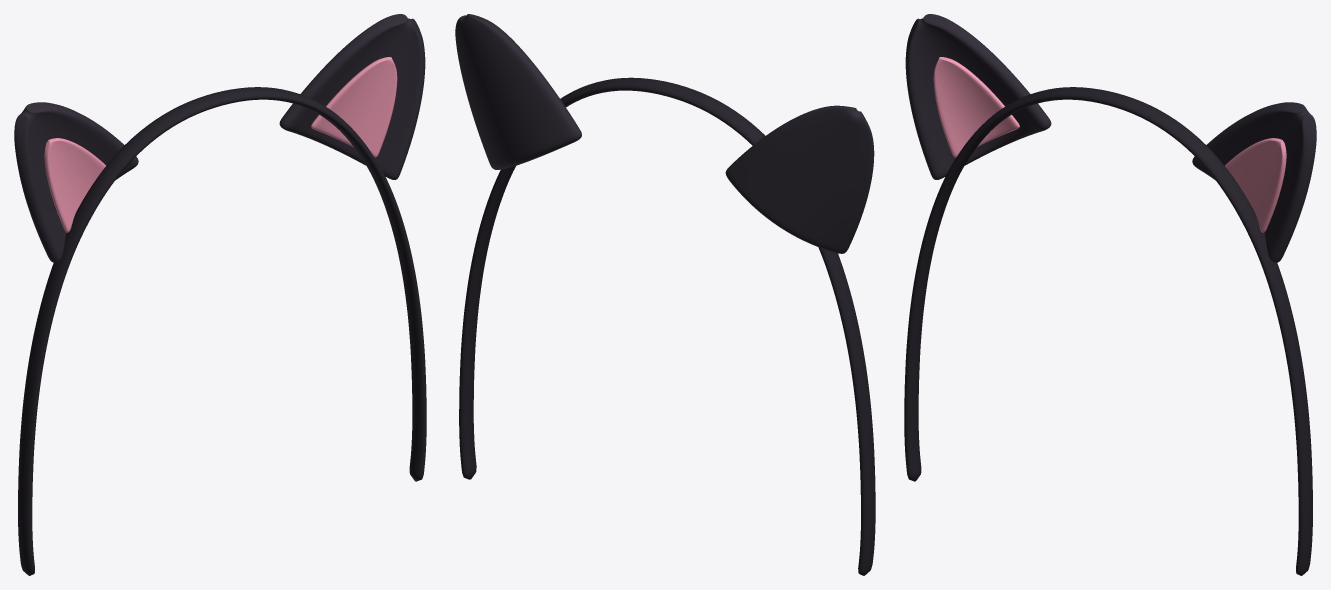
The model's file is cat-ears.glb.
3 views of the same model, side by side, from view 1: azimuth 30°, elevation 25°; view 2: azimuth 150°, elevation 25°; view 3: azimuth 330°, elevation 25° (orthographic).
Parts seen in each view (by area): view 1: Headband, Ear1, Ear-1, EarInner1, EarInner-1; view 2: Ear-1, Headband, Ear1; view 3: Headband, Ear-1, Ear1, EarInner-1, EarInner1.
Part boxes in pixels (x1,y1,x2,y2): Headband: (18, 87, 426, 575); Ear1: (279, 14, 425, 179); Ear-1: (14, 102, 138, 262); EarInner1: (311, 57, 397, 157); EarInner-1: (44, 138, 105, 232); Ear-1: (725, 105, 874, 253); Headband: (459, 77, 875, 575); Ear1: (455, 14, 581, 169); Headband: (904, 87, 1312, 575); Ear-1: (905, 14, 1051, 179); Ear1: (1192, 102, 1316, 262); EarInner-1: (933, 57, 1019, 157); EarInner1: (1225, 138, 1286, 232).
Size of the model in its own units: 1.01 by 1.09 by 0.1113.
